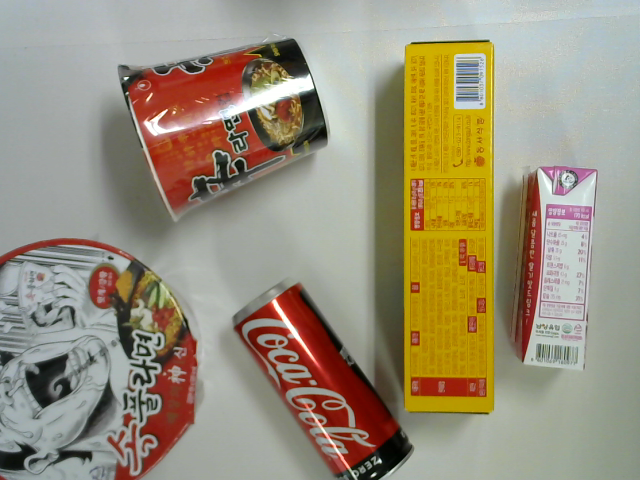Coca_Cola_Zero_Can_250ml: (231, 278, 416, 480)
Hejangpul: (1, 236, 202, 480)
Ritz_Sand_Cracker: (402, 39, 497, 412)
Sinramen_small: (116, 37, 330, 225)
Strawberry_E_Mong: (511, 165, 601, 377)
